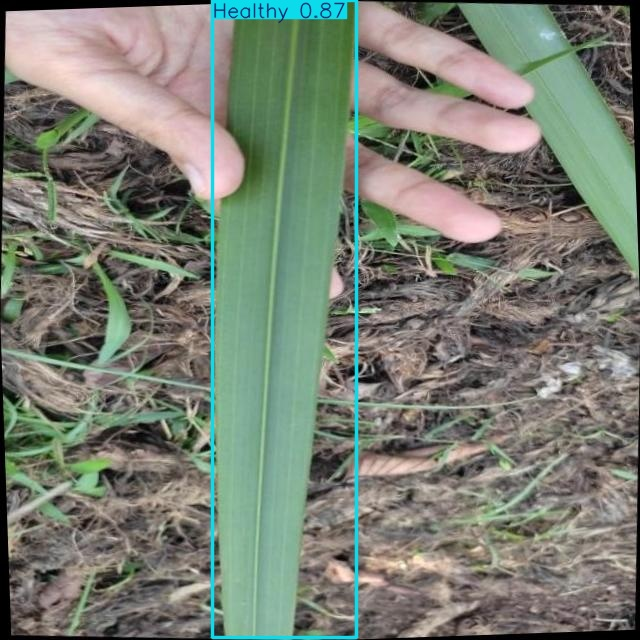Healthy: (213, 1, 356, 638)
